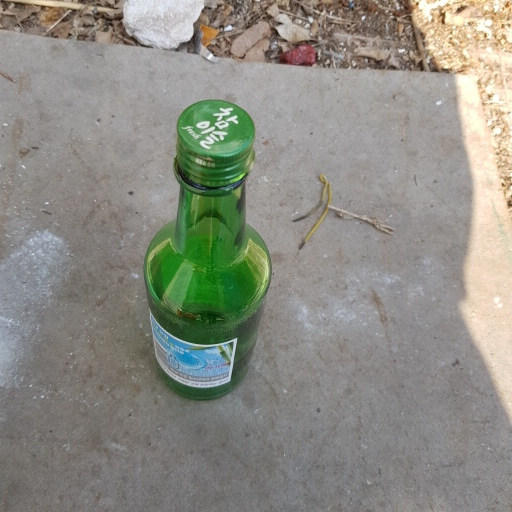Glass_0: (139, 97, 274, 401)
